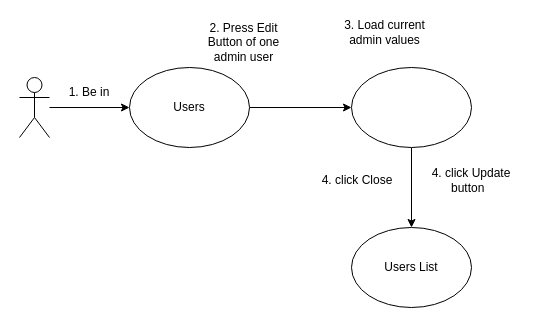
Image size: 534x325. Some labels were removed from this diagram. Here are the shapes that lost their labels. From the top down, the box of each, then its label:
(18, 76, 50, 138): Admin
(350, 66, 472, 148): Edit Admin form
